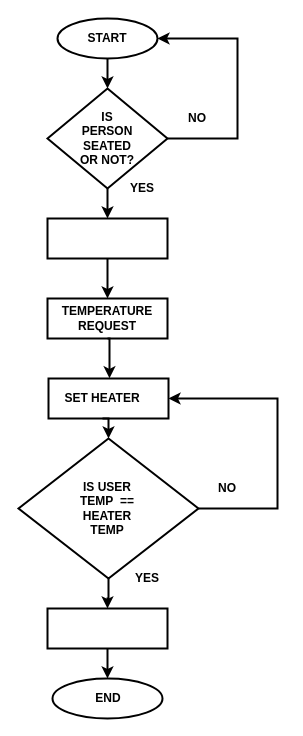
This 303x736 diagram has some shape labels left out. The shapes that lost their labels are listed below. From the top down, each one's box as (x1, y1, x2, y2) in pixels, then its label:
(46, 217, 168, 259): HEATER ON
(46, 607, 168, 649): LCD DISPLAY
